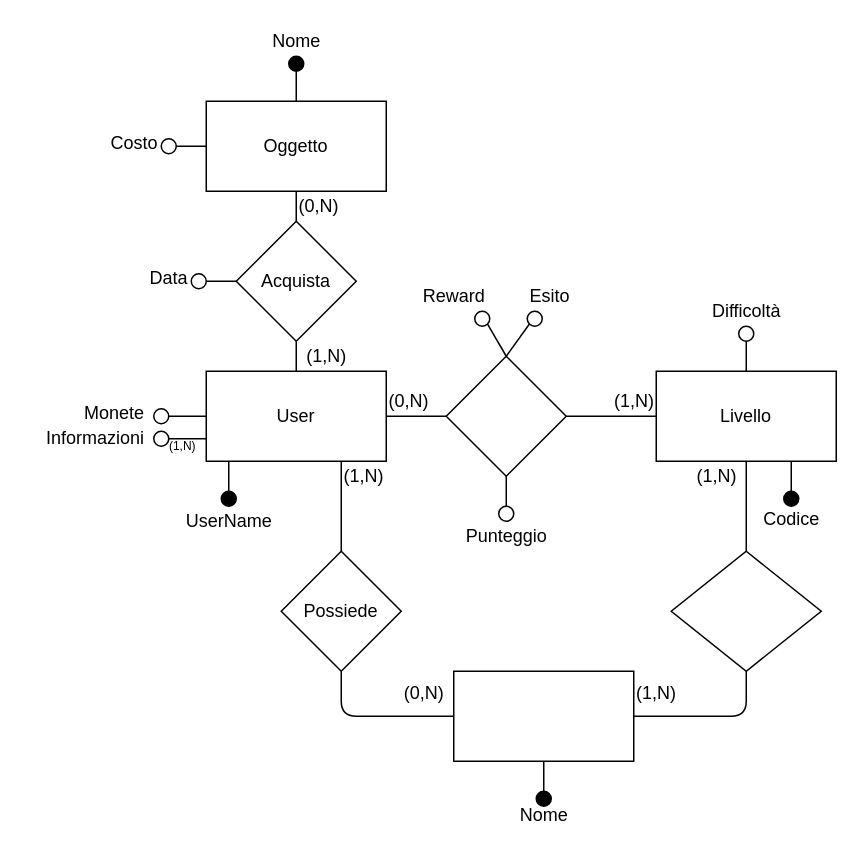
The diagram is 863 pixels wide and 855 high, and some of its shapes have lost their labels. The box of each missing label's shape, as (x1, y1, x2, y2) in pixels:
Partecipazione: (670, 550, 821, 671)
Partita: (445, 355, 566, 476)
Personaggio: (452, 670, 634, 761)
